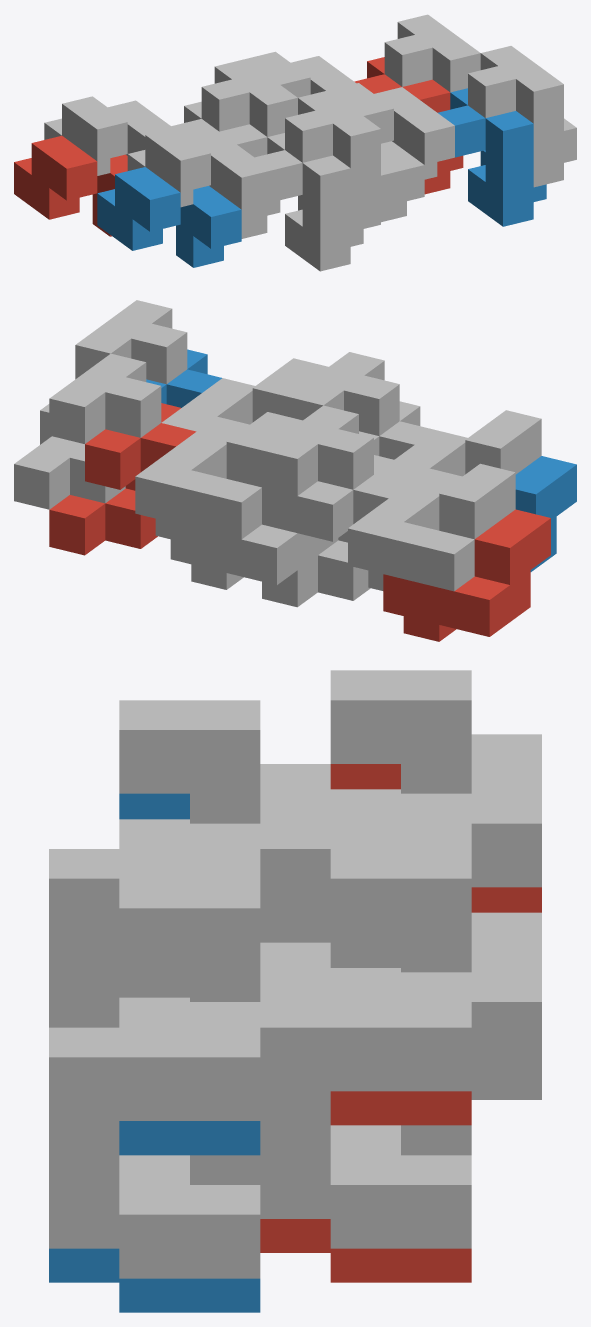
The model's file is tiling.obj.
3 views of the same model, one above another, from view 1: azimuth 30°, elevation 25°; view 2: azimuth 150°, elevation 25°; view 3: azimuth 270°, elevation 25° (orthographic). The views are drawn at different scales.
Parts seen in each view (by area): view 1: copy_1_domain_2, copy_2_domain_6, copy_2_domain_2, copy_2_domain_8, copy_2_domain_4, copy_1_domain_4, copy_1_domain_1, copy_1_domain_8, copy_2_domain_3, copy_2_domain_7, copy_1_domain_3, copy_1_domain_7 (+3 smaller); view 2: copy_1_domain_3, copy_1_domain_7, copy_2_domain_7, copy_1_domain_1, copy_2_domain_5, copy_2_domain_1, copy_1_domain_5, copy_2_domain_3, copy_1_domain_4, copy_2_domain_8, copy_1_domain_8, copy_2_domain_4 (+3 smaller); view 3: copy_2_domain_7, copy_2_domain_8, copy_1_domain_7, copy_1_domain_3, copy_1_domain_8, copy_1_domain_4, copy_2_domain_4, copy_2_domain_3, copy_2_domain_6, copy_2_domain_5, copy_1_domain_5, copy_1_domain_6 (+2 smaller).
Part boxes in pixels (bbox=[...]): copy_1_domain_2: bbox=[97, 167, 241, 267]; copy_2_domain_6: bbox=[437, 88, 546, 226]; copy_2_domain_2: bbox=[255, 133, 363, 271]; copy_2_domain_8: bbox=[468, 46, 576, 187]; copy_2_domain_4: bbox=[285, 90, 393, 231]; copy_1_domain_4: bbox=[127, 127, 271, 224]; copy_1_domain_1: bbox=[14, 135, 127, 236]; copy_1_domain_8: bbox=[329, 83, 454, 179]; copy_2_domain_3: bbox=[201, 59, 297, 136]; copy_2_domain_7: bbox=[384, 14, 480, 92]; copy_1_domain_3: bbox=[44, 96, 172, 175]; copy_1_domain_7: bbox=[245, 51, 356, 97]; copy_1_domain_3: bbox=[348, 463, 515, 591]; copy_1_domain_7: bbox=[135, 412, 302, 539]; copy_2_domain_7: bbox=[14, 353, 161, 509]; copy_1_domain_1: bbox=[383, 509, 550, 641]; copy_2_domain_5: bbox=[49, 403, 196, 555]; copy_2_domain_1: bbox=[262, 455, 408, 607]; copy_1_domain_5: bbox=[170, 487, 317, 589]; copy_2_domain_3: bbox=[262, 405, 373, 554]; copy_1_domain_4: bbox=[374, 410, 541, 491]; copy_2_domain_8: bbox=[40, 300, 187, 444]; copy_1_domain_8: bbox=[161, 358, 328, 439]; copy_2_domain_4: bbox=[288, 352, 399, 435]; copy_2_domain_7: bbox=[260, 968, 471, 1248]; copy_2_domain_8: bbox=[49, 997, 260, 1278]; copy_1_domain_7: bbox=[330, 849, 541, 1129]; copy_1_domain_3: bbox=[330, 670, 541, 887]; copy_1_domain_8: bbox=[119, 878, 330, 1159]; copy_1_domain_4: bbox=[119, 700, 330, 848]; copy_2_domain_4: bbox=[49, 819, 260, 1027]; copy_2_domain_3: bbox=[260, 789, 471, 942]; copy_2_domain_6: bbox=[49, 1121, 260, 1312]; copy_2_domain_5: bbox=[260, 1091, 471, 1282]; copy_1_domain_5: bbox=[330, 942, 541, 1155]; copy_1_domain_6: bbox=[119, 972, 260, 1184].
Size of the model in its own units: 15 by 4 by 7.
